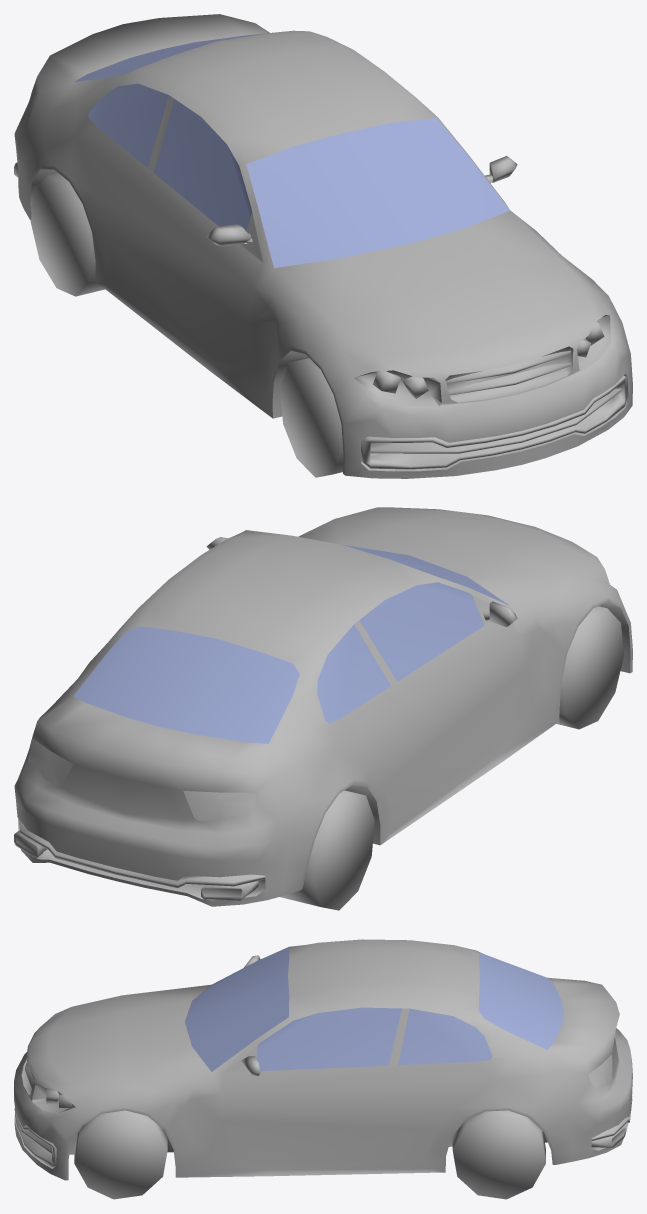
The model's file is Car_34_LOD1.FBX.
The picture shows the model from 3 angles, top to bottom: view 1: azimuth 30°, elevation 25°; view 2: azimuth 150°, elevation 25°; view 3: azimuth 270°, elevation 25°; orthographic projection. The views are drawn at different scales.
Parts seen in each view (by area): view 1: Body_34_LOD1, Glass_34_LOD1, Matte_34_LOD1, Wheel_Back_R_LOD1, Wheel_R_LOD1; view 2: Body_34_LOD1, Glass_34_LOD1, Matte_34_LOD1, Wheel_Back_R_LOD1, Wheel_R_LOD1, Taillights_34_LOD1; view 3: Body_34_LOD1, Glass_34_LOD1, Wheel_Back_L_LOD1, Wheel_L_LOD1, Matte_34_LOD1, Taillights_34_LOD1.
Boxes of the visible parts, x1=… form: Body_34_LOD1: x1=14, y1=14, x2=632, y2=478; Glass_34_LOD1: x1=73, y1=31, x2=510, y2=268; Matte_34_LOD1: x1=14, y1=95, x2=628, y2=471; Wheel_Back_R_LOD1: x1=30, y1=173, x2=104, y2=296; Wheel_R_LOD1: x1=280, y1=358, x2=343, y2=477; Body_34_LOD1: x1=14, y1=507, x2=632, y2=906; Glass_34_LOD1: x1=73, y1=545, x2=509, y2=743; Matte_34_LOD1: x1=14, y1=537, x2=630, y2=900; Wheel_Back_R_LOD1: x1=280, y1=790, x2=374, y2=910; Wheel_R_LOD1: x1=556, y1=606, x2=623, y2=729; Taillights_34_LOD1: x1=27, y1=738, x2=256, y2=821; Body_34_LOD1: x1=14, y1=939, x2=632, y2=1180; Glass_34_LOD1: x1=185, y1=947, x2=563, y2=1071; Wheel_Back_L_LOD1: x1=452, y1=1110, x2=545, y2=1199; Wheel_L_LOD1: x1=74, y1=1110, x2=167, y2=1199; Matte_34_LOD1: x1=14, y1=955, x2=632, y2=1176; Taillights_34_LOD1: x1=588, y1=1054, x2=612, y2=1087.
Size of the model in its own units: 1.84 by 1.37 by 4.22.
